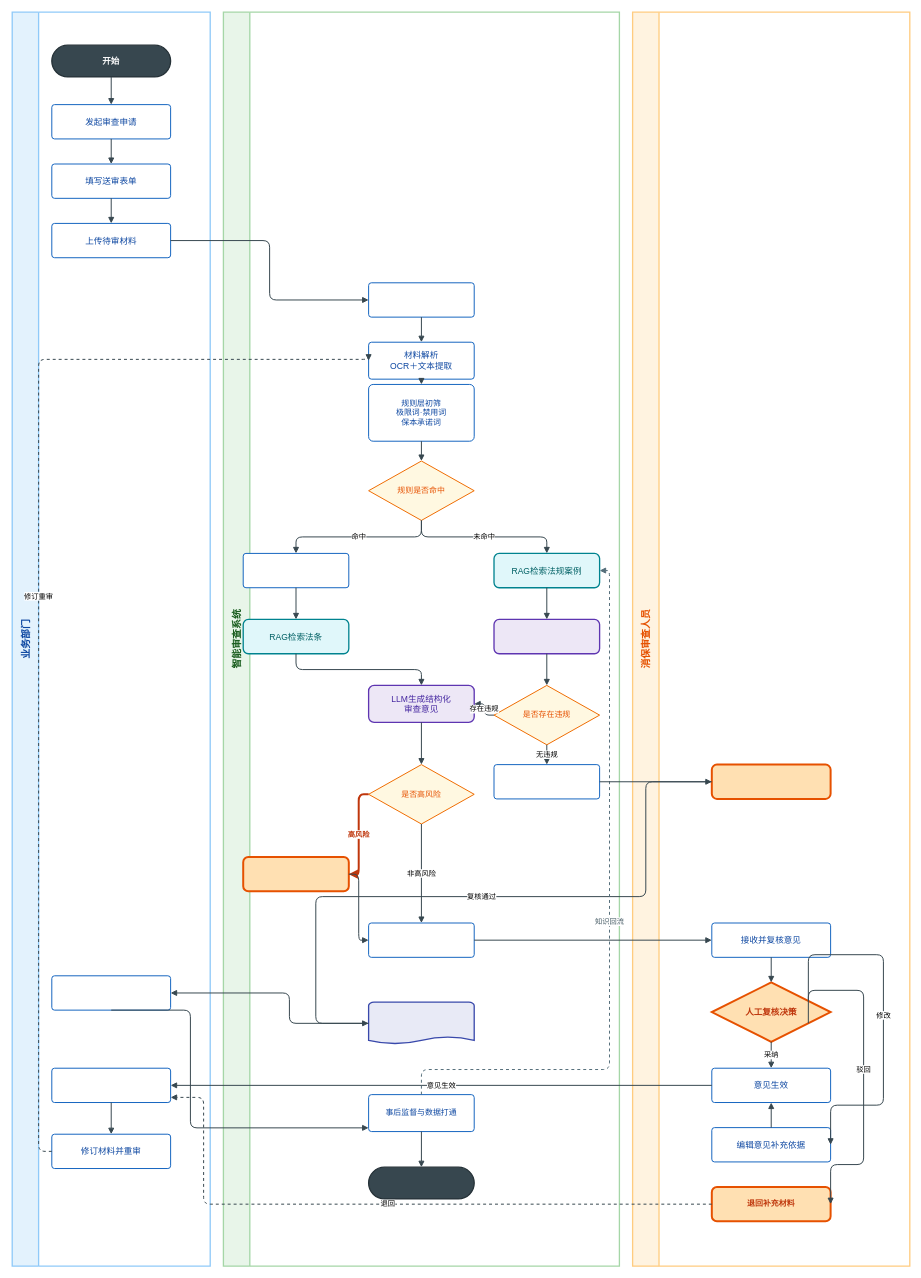
The diagram is 921 pixels wide and 1278 high, and some of its shapes have lost their labels. The centre of each missing label's shape, as x and y in pixels:
"LLM深度审查" goes at (546,636).
"人工复核确认通过" goes at (770,781).
"准予发布" goes at (111,992).
"审查完结" goes at (421,1182).
"审查结果归档 生成审查记录" goes at (421,1023).
"拟定通过结论" goes at (546,781).
"接收审查意见 补正通知" goes at (111,1085).
"推送审查工作台" goes at (421,940).
"标记高风险强制复核" goes at (295,874).
"规则证据汇总" goes at (295,570).
"触发智能审查引擎" goes at (421,299).
